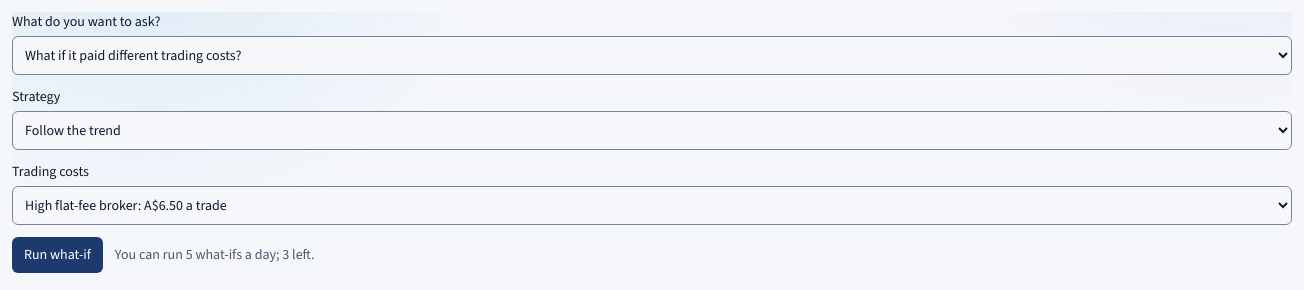
Scenario: what-if form variants › offers no strategy or profile choice for the custom question
The width and height of the screenshot is (1304, 290).
Select "Something else (any other change)" in the dropdown labelled "What do you want to ask?": (652, 56) [12,36,1292,75]
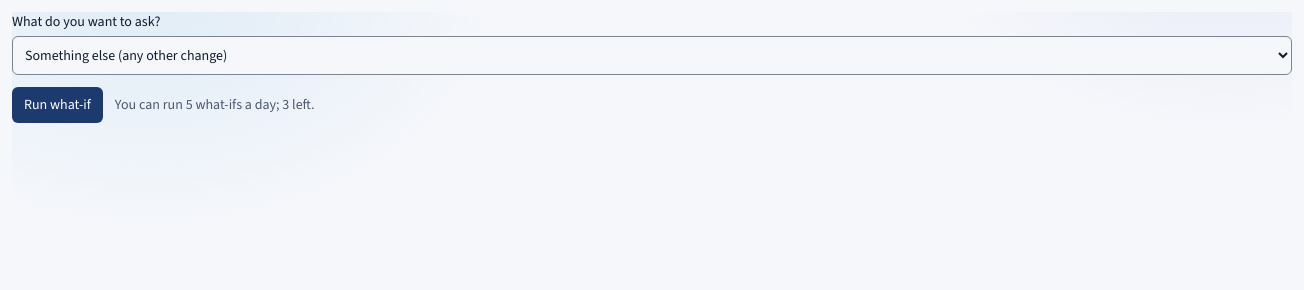
Expected: the text "Strategy" is gone
Expected: the text "Trading costs" is gone
